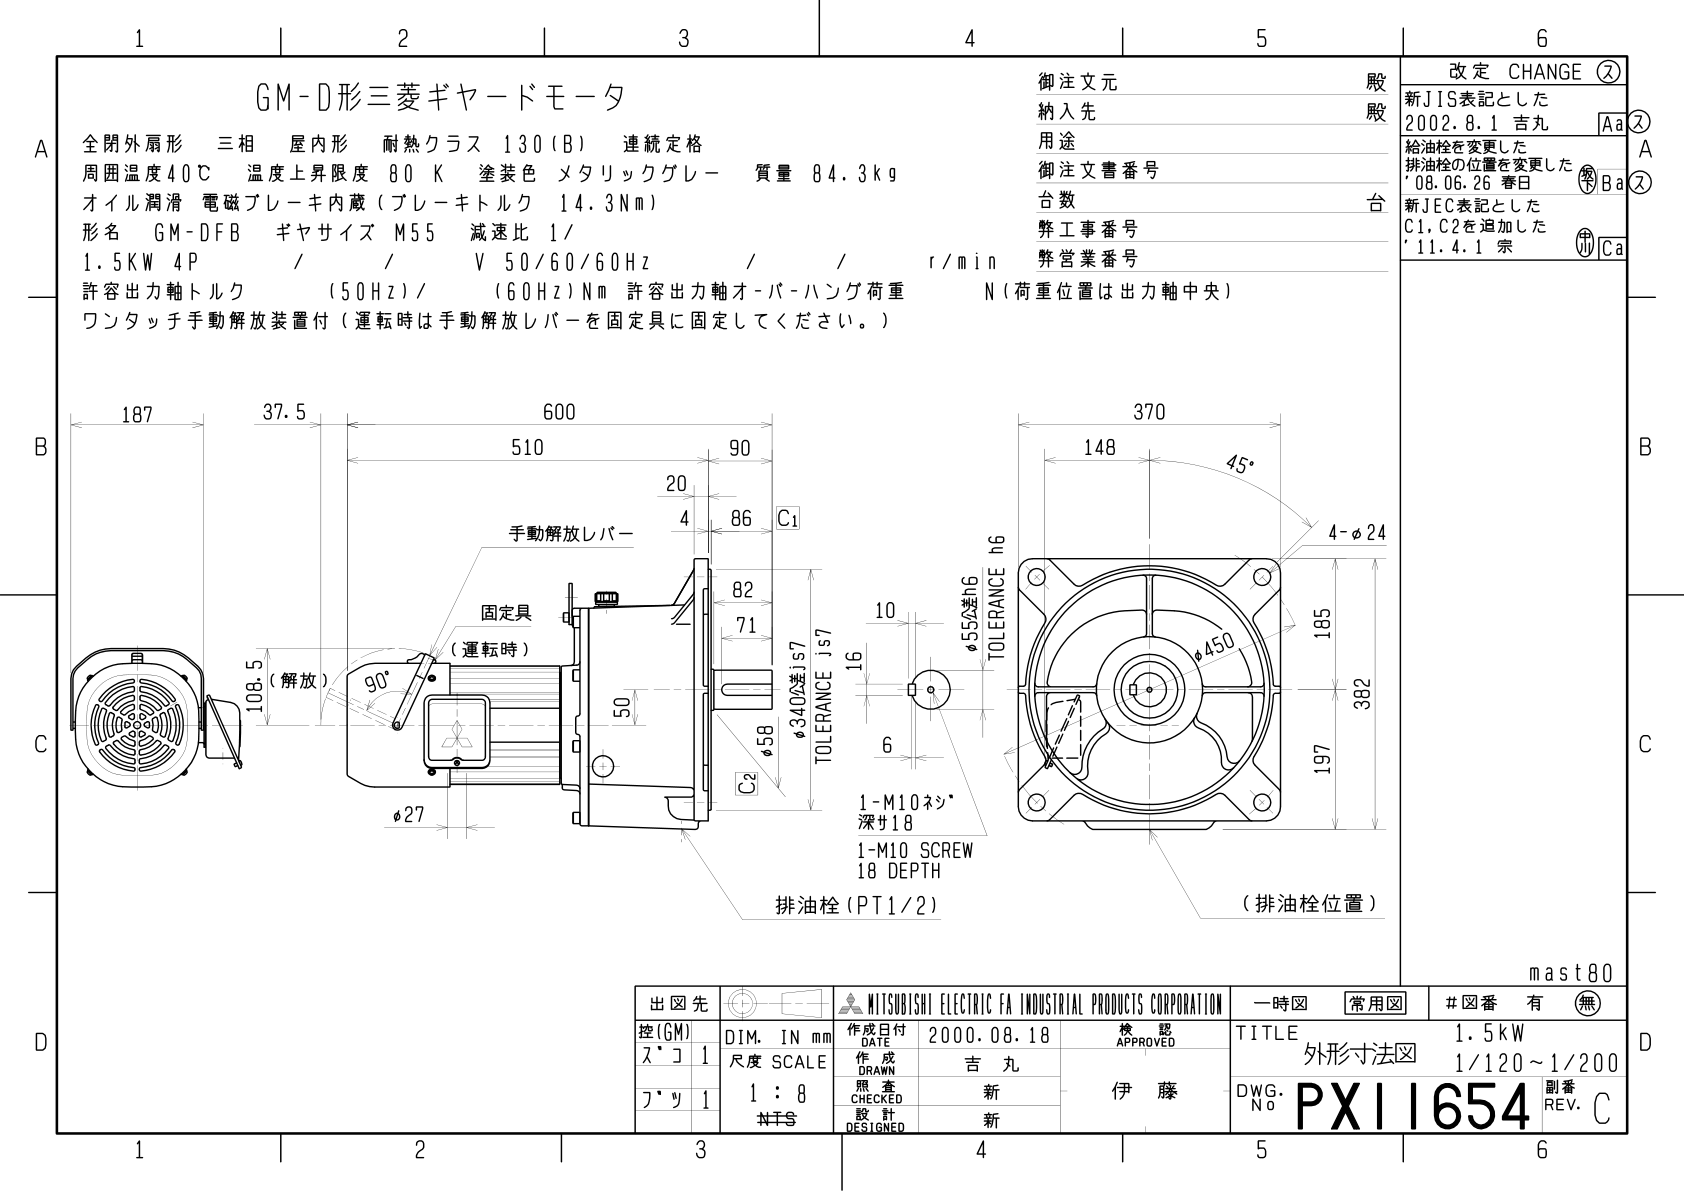GM_D_手動解放ブレーキ＿三相_フランジ: (1, 1, 1667, 1181)
